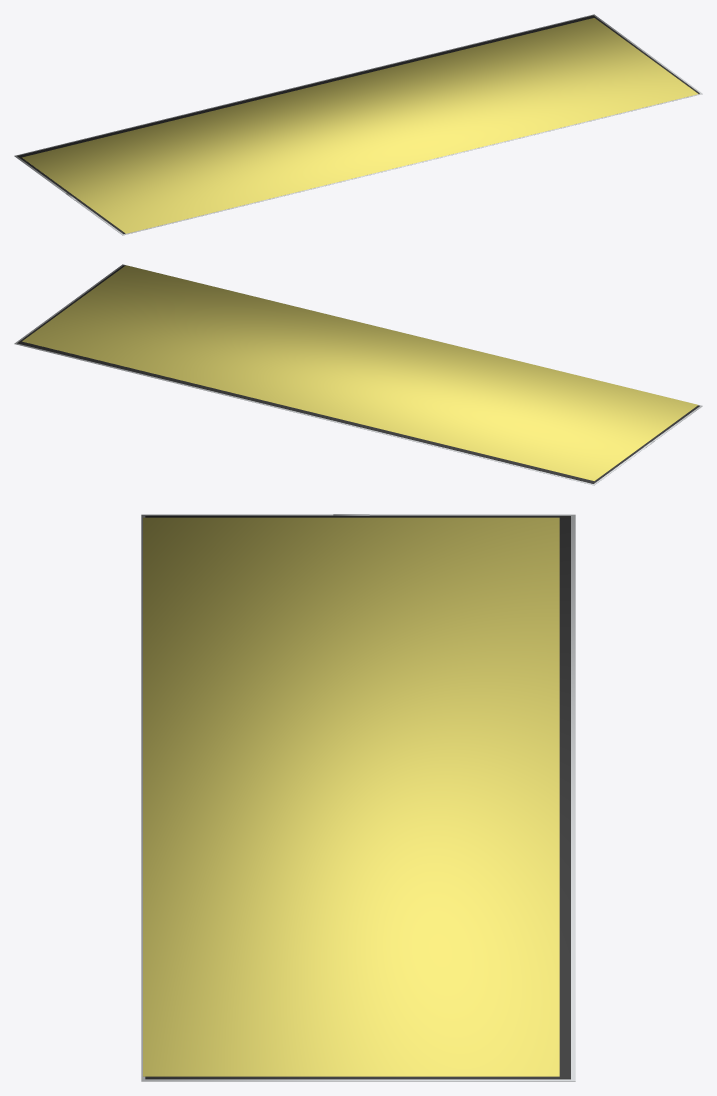
File: VCell_Cathode.glb
3 renders of one model, top to bottom at view 1: azimuth 30°, elevation 25°; view 2: azimuth 150°, elevation 25°; view 3: azimuth 270°, elevation 25°, orthographic. The views are drawn at different scales.
Visible parts, largest first — view 1: VCell_Cathode; view 2: VCell_Cathode; view 3: VCell_Cathode.
Part boxes in pixels (x1,y1,x2,y2): VCell_Cathode: (14, 14, 702, 235); VCell_Cathode: (14, 264, 702, 485); VCell_Cathode: (141, 514, 575, 1081).
Size of the model in its own units: 0.296 by 0.000353 by 0.096.
